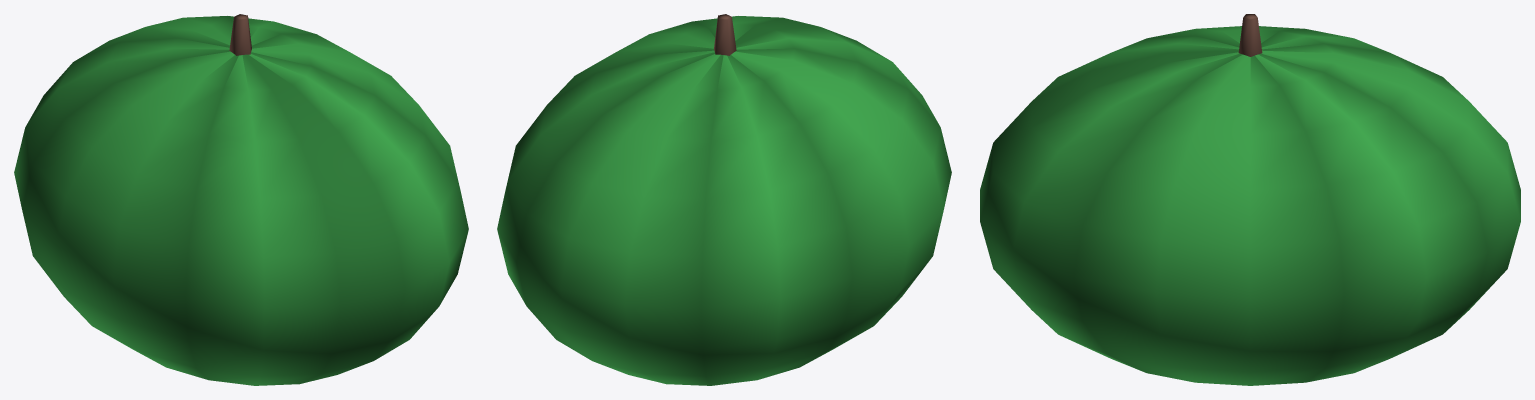
File: fruit-watermelon-gold.glb
The picture shows the model from 3 angles, left to right: view 1: azimuth 30°, elevation 25°; view 2: azimuth 150°, elevation 25°; view 3: azimuth 270°, elevation 25°; orthographic projection. The views are drawn at different scales.
Visible parts, largest first — view 1: fruit-watermelon; view 2: fruit-watermelon; view 3: fruit-watermelon.
Boxes of the visible parts, bbox=[...] form: fruit-watermelon: bbox=[14, 14, 468, 385]; fruit-watermelon: bbox=[497, 14, 951, 385]; fruit-watermelon: bbox=[980, 14, 1520, 385].
Size of the model in its own units: 1.1 by 0.9515 by 1.35.
